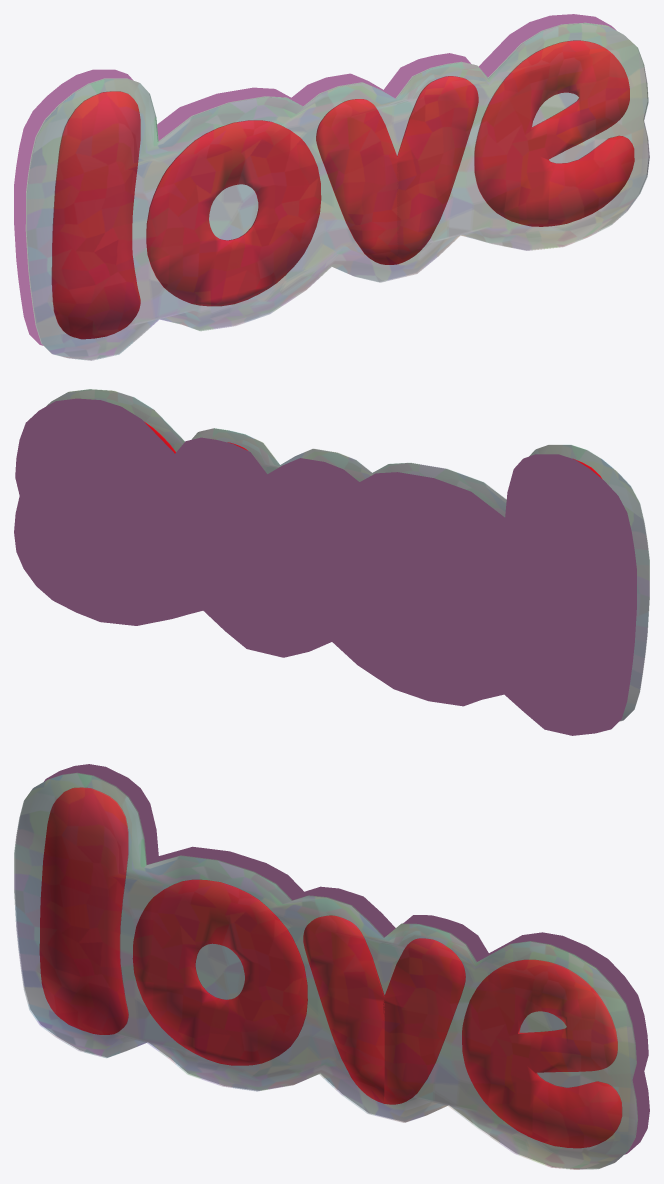
Rendered from love_holo.glb.
The picture shows the model from 3 angles, top to bottom: view 1: azimuth 30°, elevation 25°; view 2: azimuth 150°, elevation 25°; view 3: azimuth 330°, elevation 25°; orthographic projection.
Visible parts, largest first — view 1: Plane.009, Plane.004, Plane.001, Plane.003, Plane.002, Plane, Plane.010; view 2: Plane.010, Plane.004, Plane.009; view 3: Plane.009, Plane.004, Plane.001, Plane.003, Plane.002, Plane, Plane.010.
Part boxes in pixels (x1,y1,x2,y2): Plane.009: (27,23,649,360); Plane.004: (25,22,649,360); Plane.001: (146,120,321,306); Plane.003: (474,40,634,226); Plane.002: (316,76,478,264); Plane: (51,91,140,339); Plane.010: (14,14,616,345); Plane.010: (14,398,636,735); Plane.004: (46,389,649,721); Plane.009: (48,389,649,720); Plane.009: (14,773,636,1169); Plane.004: (14,772,637,1169); Plane.001: (132,879,307,1065); Plane.003: (462,959,622,1148); Plane.002: (303,915,465,1104); Plane: (39,787,128,1034); Plane.010: (44,764,649,1154).
Bounding box in the file's own units: 2.13 × 0.9155 × 0.0861.
3 materials, 1 textured.
